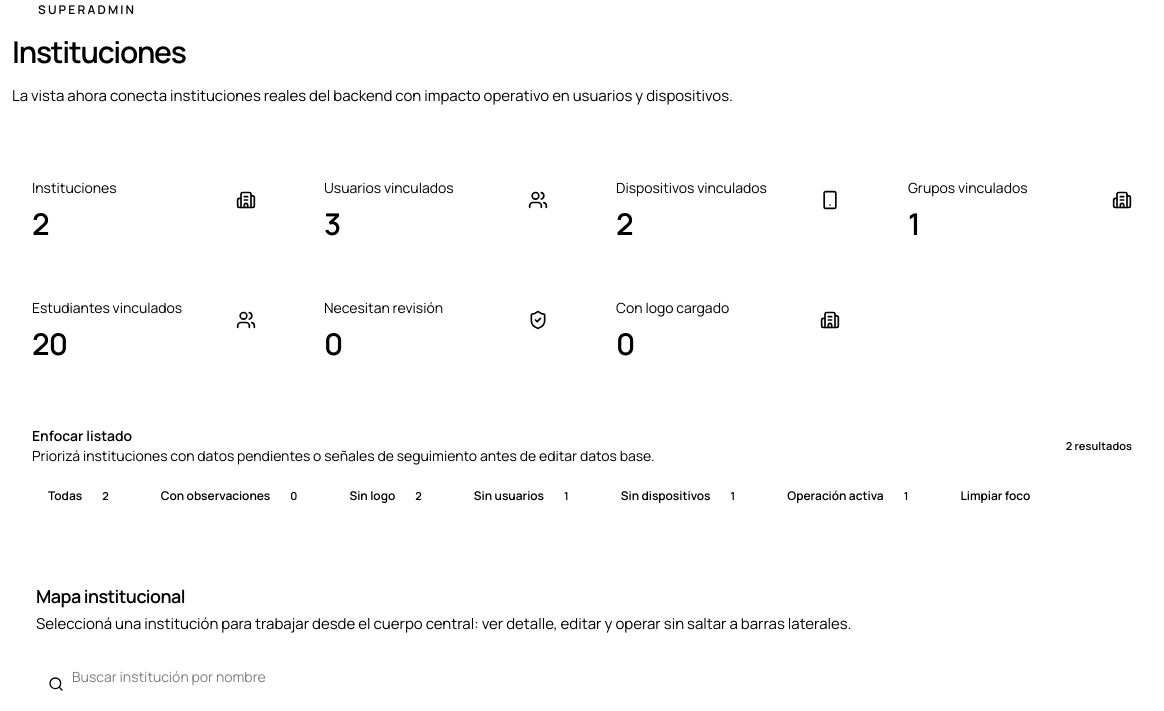
Test case: InstitutionsOverview › filters institutions with operational focus segments
Step 1. Click the button "Sin dispositivos 1" → (684, 496), box 605,478 -> 763,514
(page scrolled)
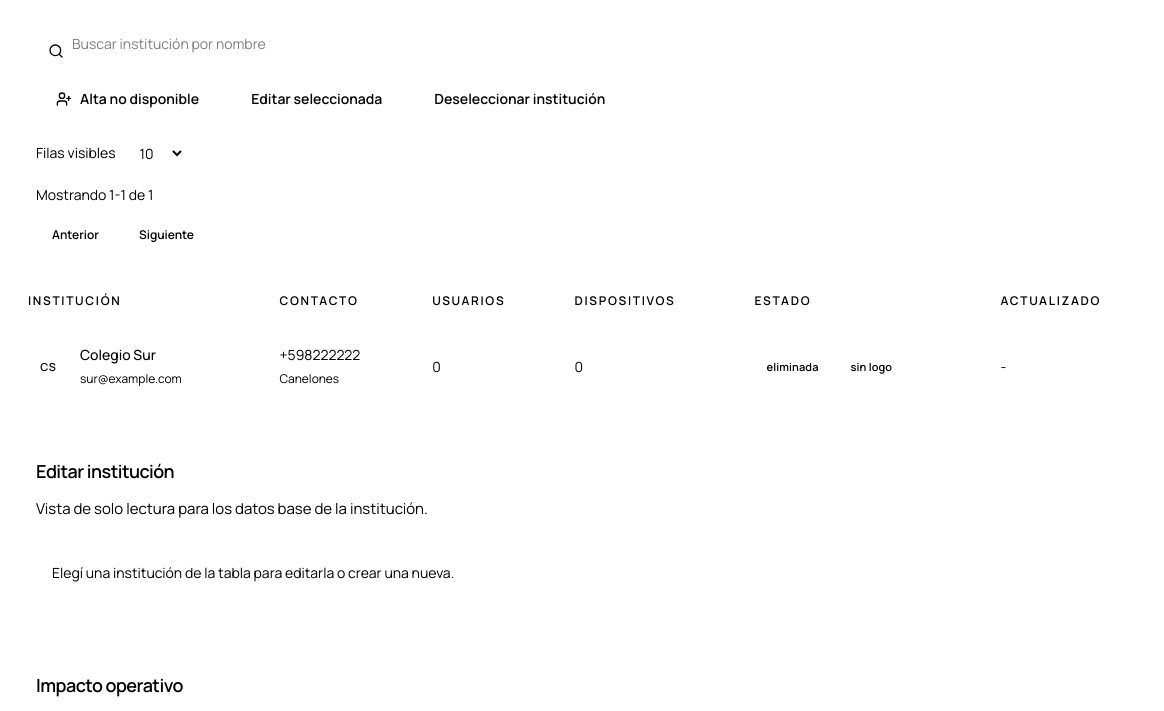
Expected: the text "Colegio Sur" is shown, 80,345 -> 156,364
Result: the text "Colegio Norte" is not shown
